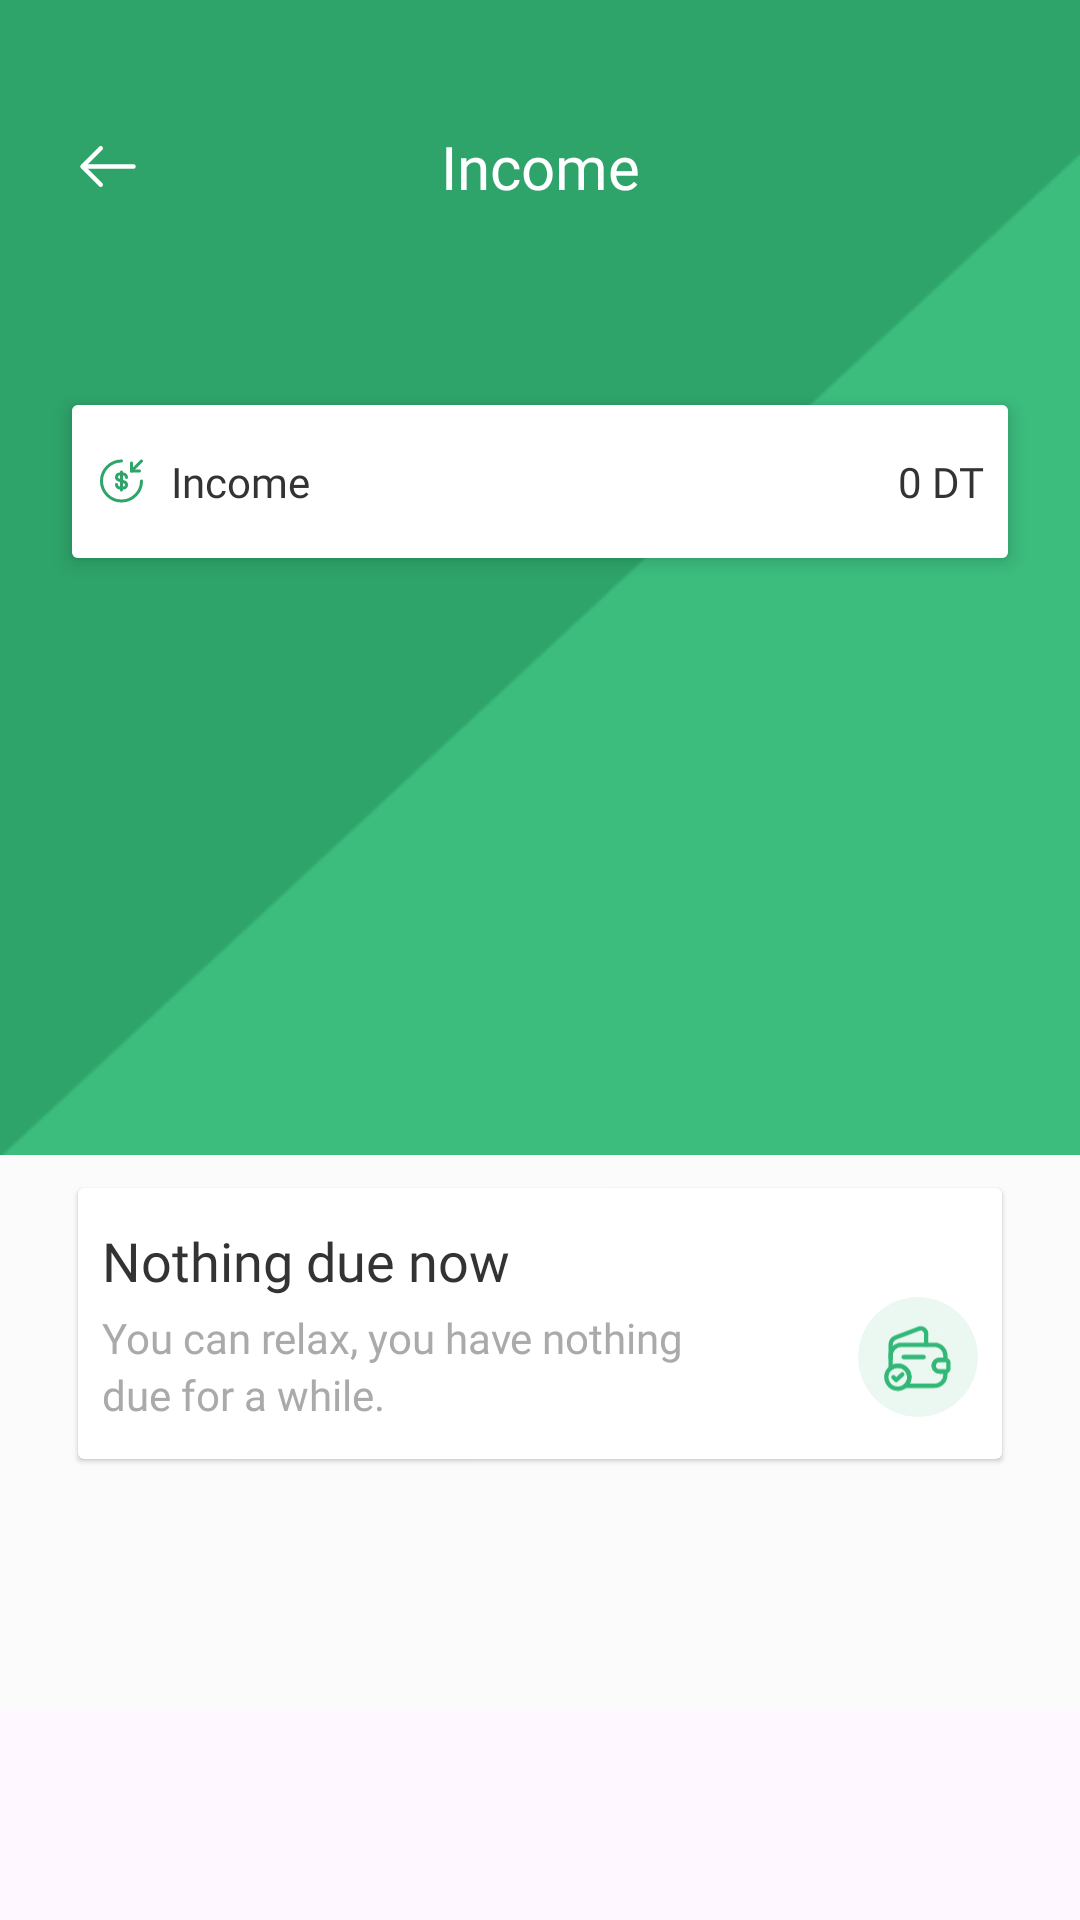

Point at icon controls on the screen. Image size 1080 × 1920, points as point (x, y).
arrow: point (108, 166)
empty wallet tick: point (918, 1357)
money recive: point (121, 481)
